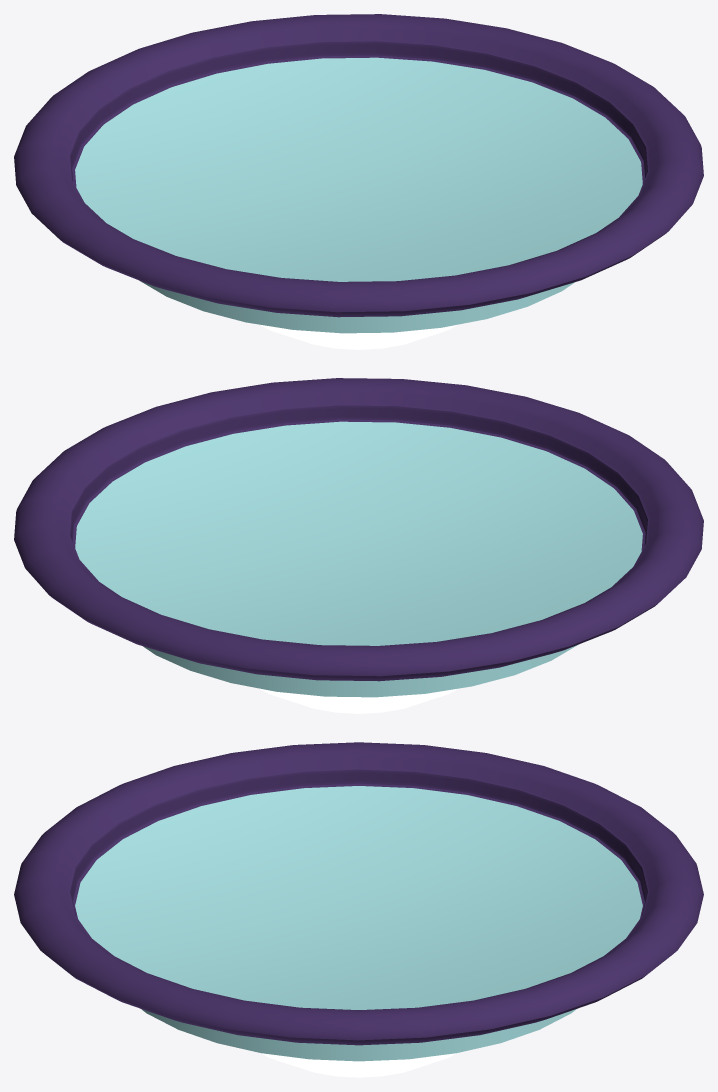
File: organPanUFOThingie.fbx
3 views of the same model, one above another, from view 1: azimuth 30°, elevation 25°; view 2: azimuth 150°, elevation 25°; view 3: azimuth 270°, elevation 25° (orthographic).
Visible parts, largest first — view 1: Cylinder.002; view 2: Cylinder.002; view 3: Cylinder.002.
Boxes of the visible parts, <box> form: Cylinder.002: <box>14,14,703,349</box>; Cylinder.002: <box>14,378,703,713</box>; Cylinder.002: <box>14,742,703,1077</box>.
Size of the model in its own units: 66.59 by 18.87 by 66.59.
